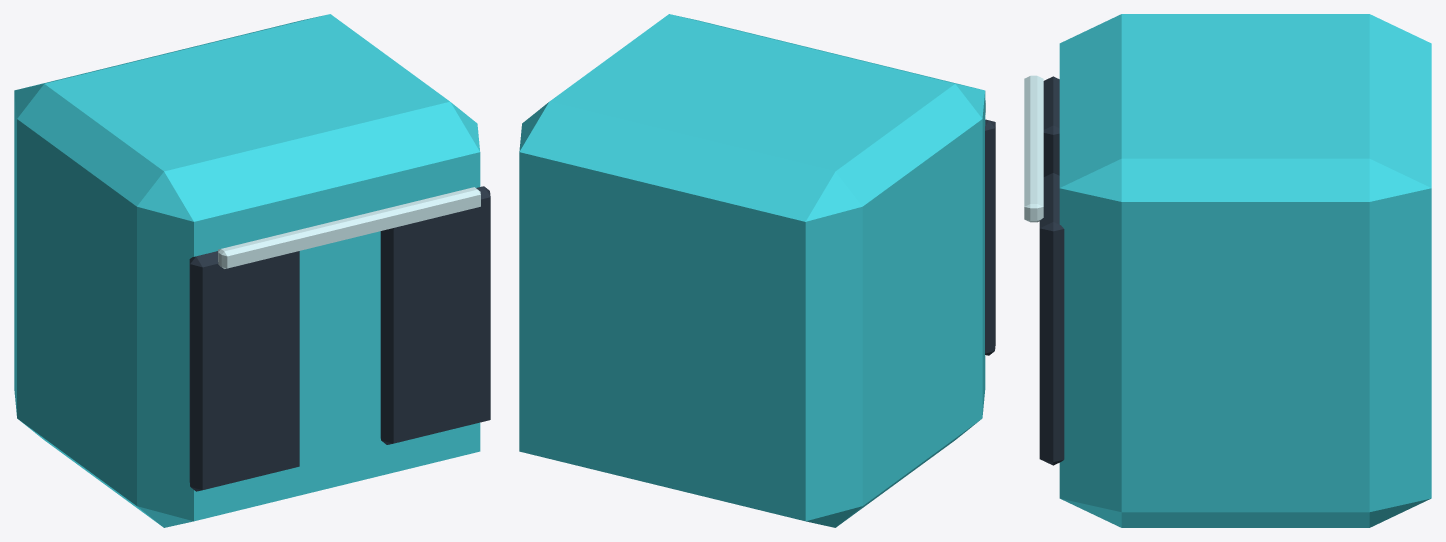
Rendered from Barrier.fbx.
3 views of the same model, side by side, from view 1: azimuth 30°, elevation 25°; view 2: azimuth 150°, elevation 25°; view 3: azimuth 270°, elevation 25° (orthographic). The views are drawn at different scales.
Visible parts, largest first — view 1: ArmoredMass, RecessPanel, RecessPanel.001, WarningStrip; view 2: ArmoredMass, RecessPanel; view 3: ArmoredMass, RecessPanel.001, WarningStrip, RecessPanel.
Part boxes in pixels (x1,y1,x2,y2): ArmoredMass: [14, 14, 480, 527]; RecessPanel: [189, 251, 299, 491]; RecessPanel.001: [380, 186, 490, 444]; WarningStrip: [218, 187, 480, 268]; ArmoredMass: [519, 14, 985, 527]; RecessPanel: [985, 119, 995, 355]; ArmoredMass: [1059, 14, 1431, 527]; RecessPanel.001: [1039, 173, 1064, 465]; WarningStrip: [1024, 75, 1043, 222]; RecessPanel: [1043, 76, 1059, 176].
Size of the model in its own units: 1 by 1 by 1.
